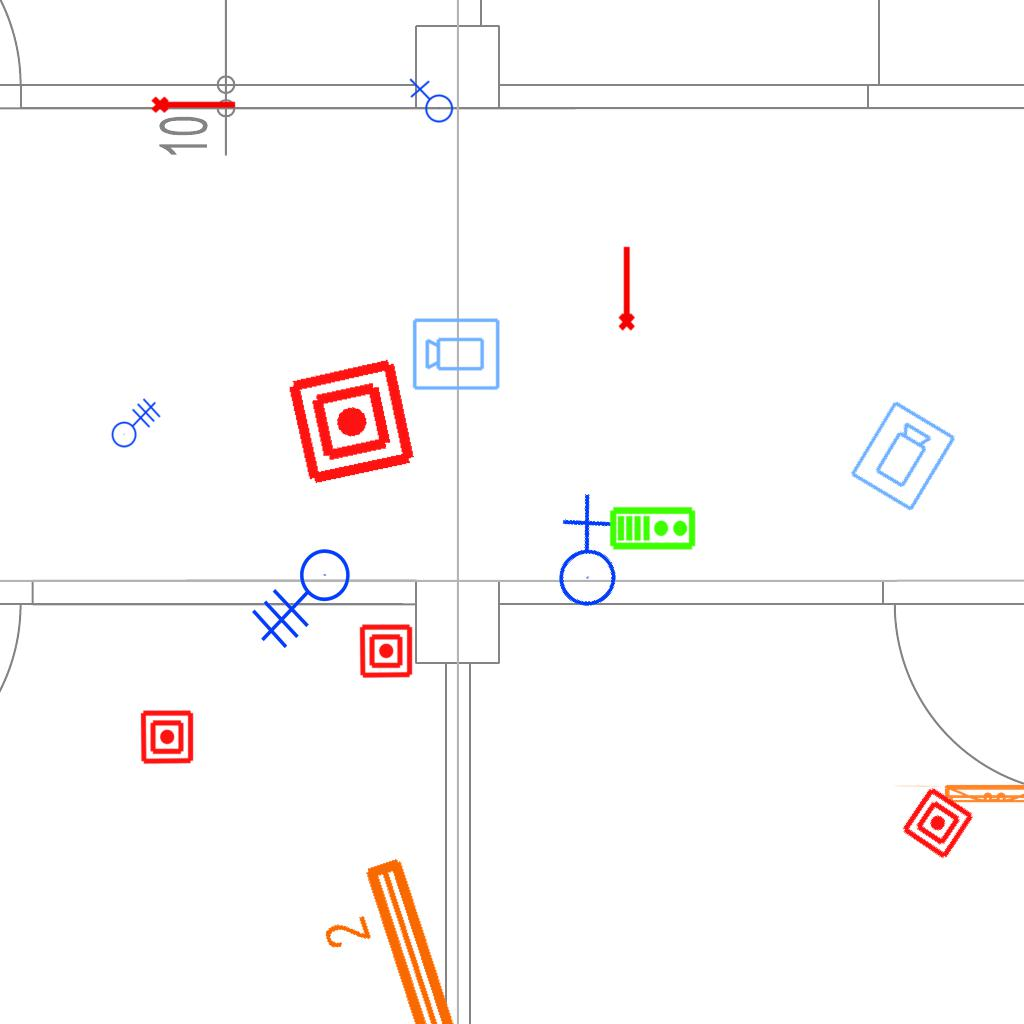ASR_Ansaugoeffnung: (150, 92, 238, 115), (614, 244, 637, 332)
Ambulanz_Pendelleuchte_LED: (302, 845, 648, 1024)
Elektroanschluss_allgemein_230V_Geraeteanschlussdose_230V: (515, 488, 652, 626), (407, 78, 454, 127)
Elektroanschluss_allgemein_400V_Geraeteanschlussdose_400V: (251, 548, 367, 661), (103, 392, 161, 448)
Gegensprechanlage_mit_Video: (609, 504, 697, 551)
KFO_Kamera_mit_Festobjektiv: (847, 397, 960, 516), (411, 315, 502, 392)
NAM-Nichtautomatischer_Melder: (284, 354, 419, 489), (899, 784, 977, 862), (139, 709, 195, 765), (358, 623, 414, 679)
Sicherheitsleuchte_Wandeinbau: (890, 782, 1024, 807)
